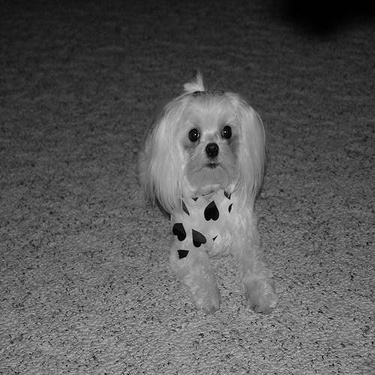dog: (124, 61, 284, 321)
